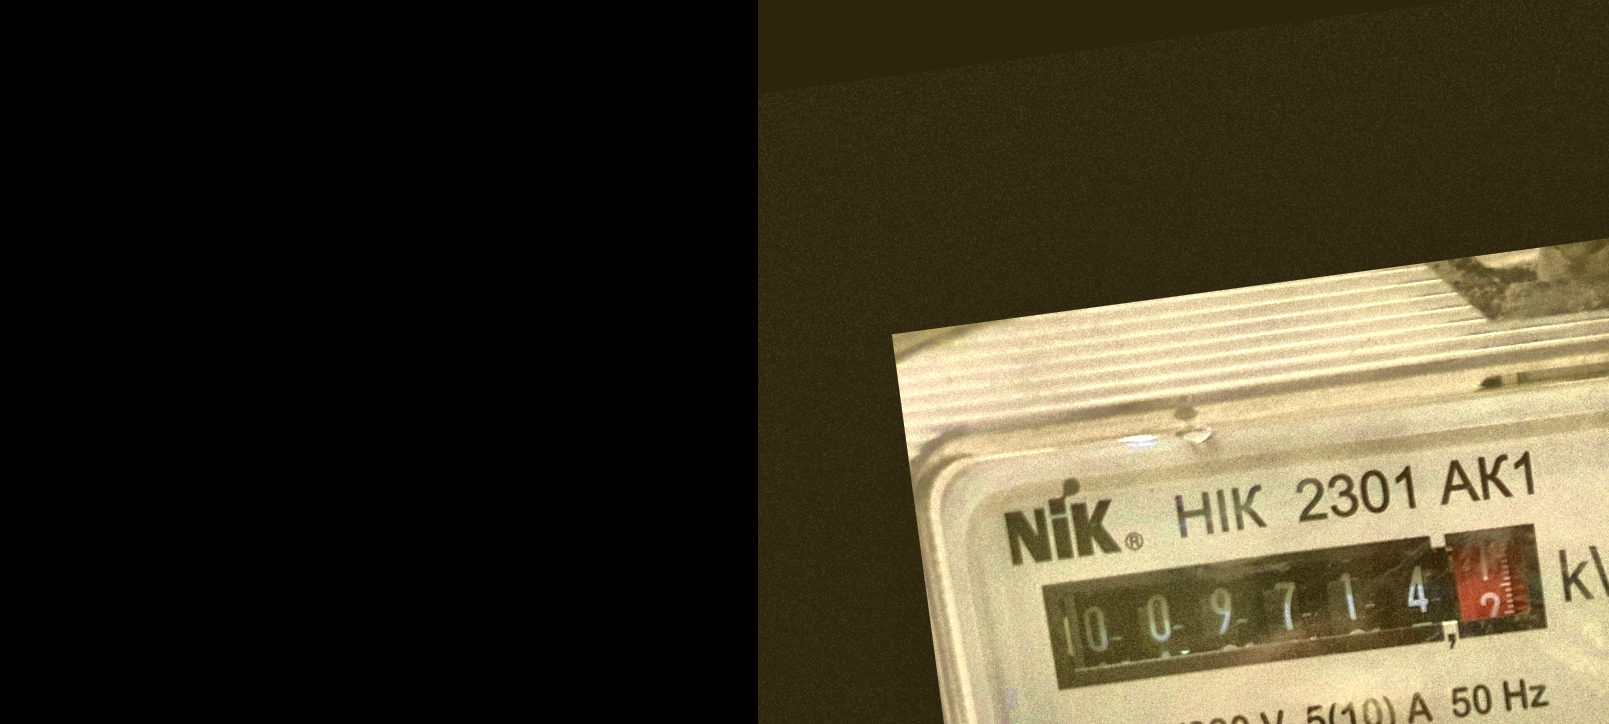0: (1078, 600, 1114, 657), (1142, 589, 1175, 645)
1: (1334, 566, 1364, 624), (1473, 540, 1493, 584)
2: (1477, 587, 1504, 620)
4: (1399, 561, 1434, 618)
7: (1271, 577, 1304, 634)
9: (1204, 584, 1239, 638)
screen: (1025, 502, 1567, 713)
